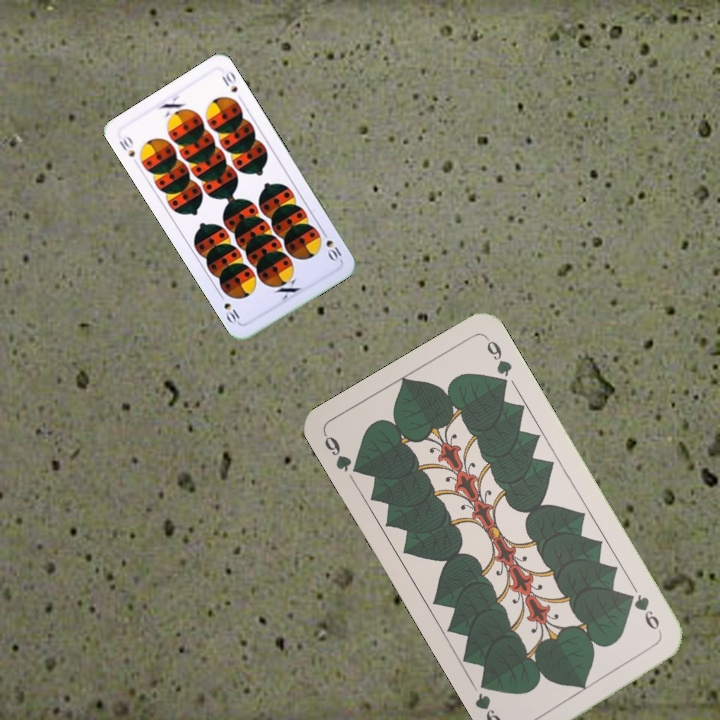G9: (320, 430, 366, 478), (622, 589, 665, 638)
S10: (318, 226, 344, 264), (115, 132, 138, 160)
